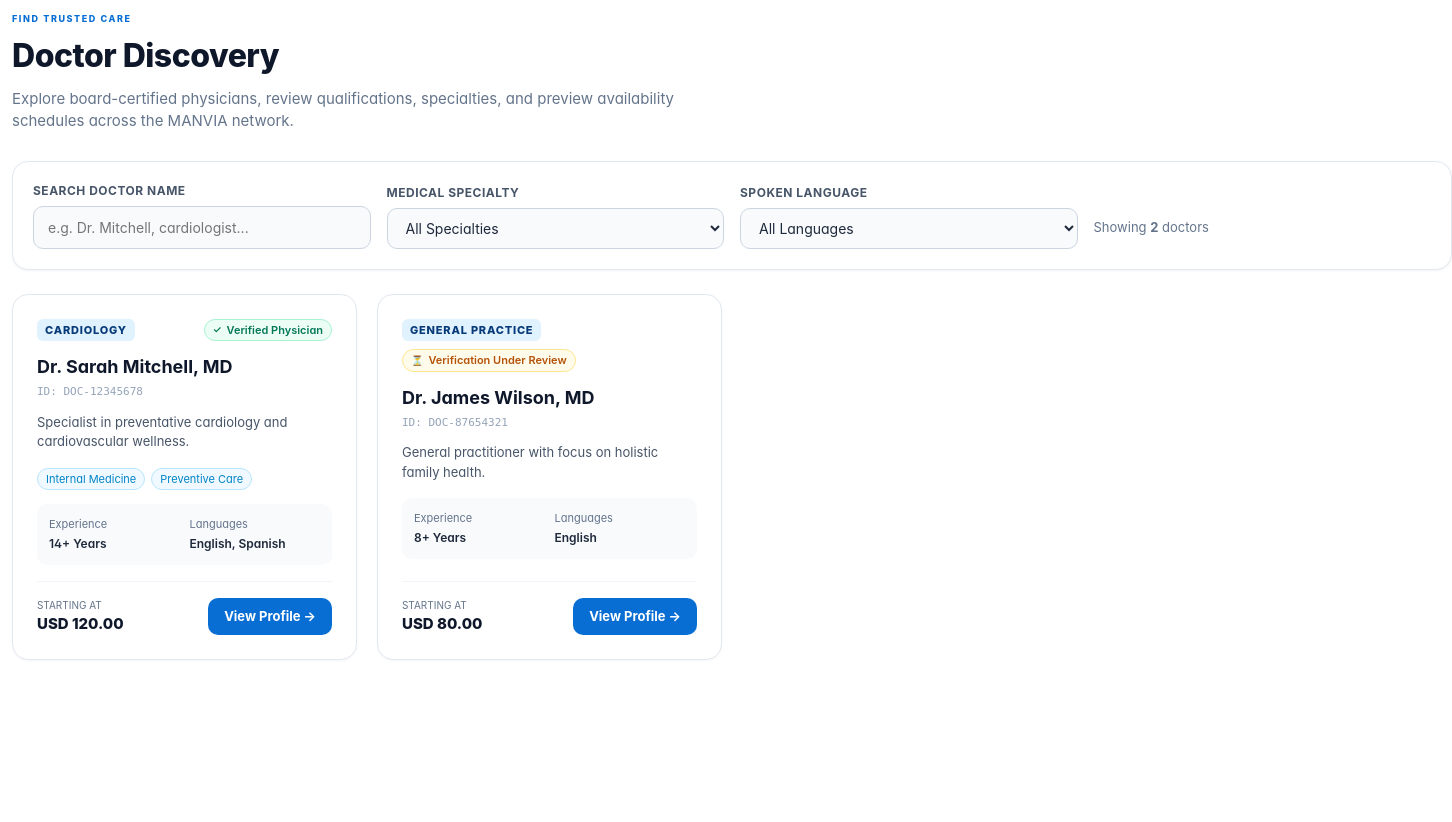
Doctor Module — Phase 6 › DoctorDiscoveryPage › filters doctors by search input on the page
Expected: the heading "Dr. Sarah Mitchell, MD" is shown, [37,356,233,377]
Type "Wilson" into the field labelled "Search Doctor Name". click: (202, 227)
box: [33,206,370,248]
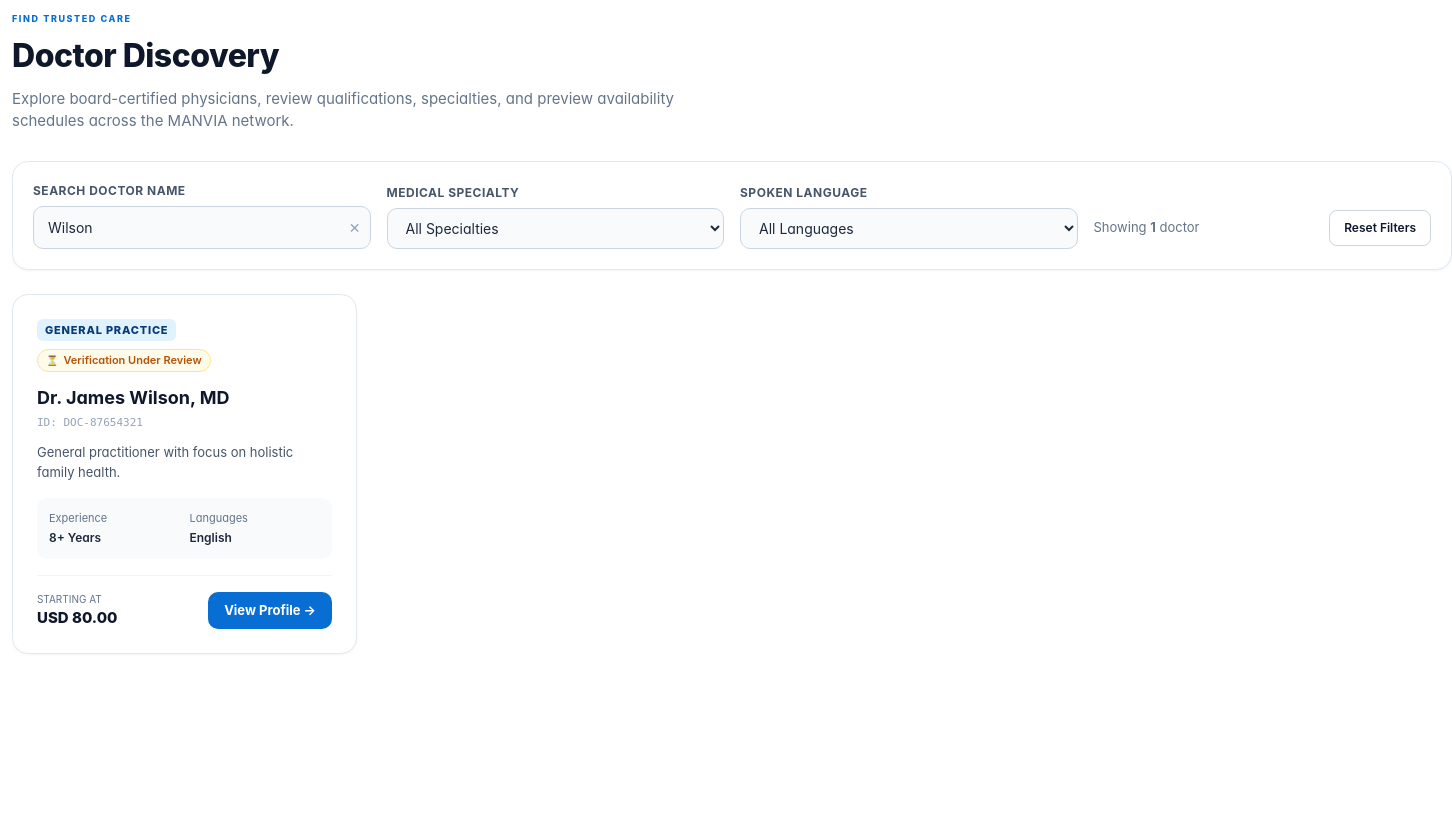
Expected: the heading "Dr. James Wilson, MD" is shown, [37,386,230,408]
Result: the heading "Dr. Sarah Mitchell, MD" is gone
